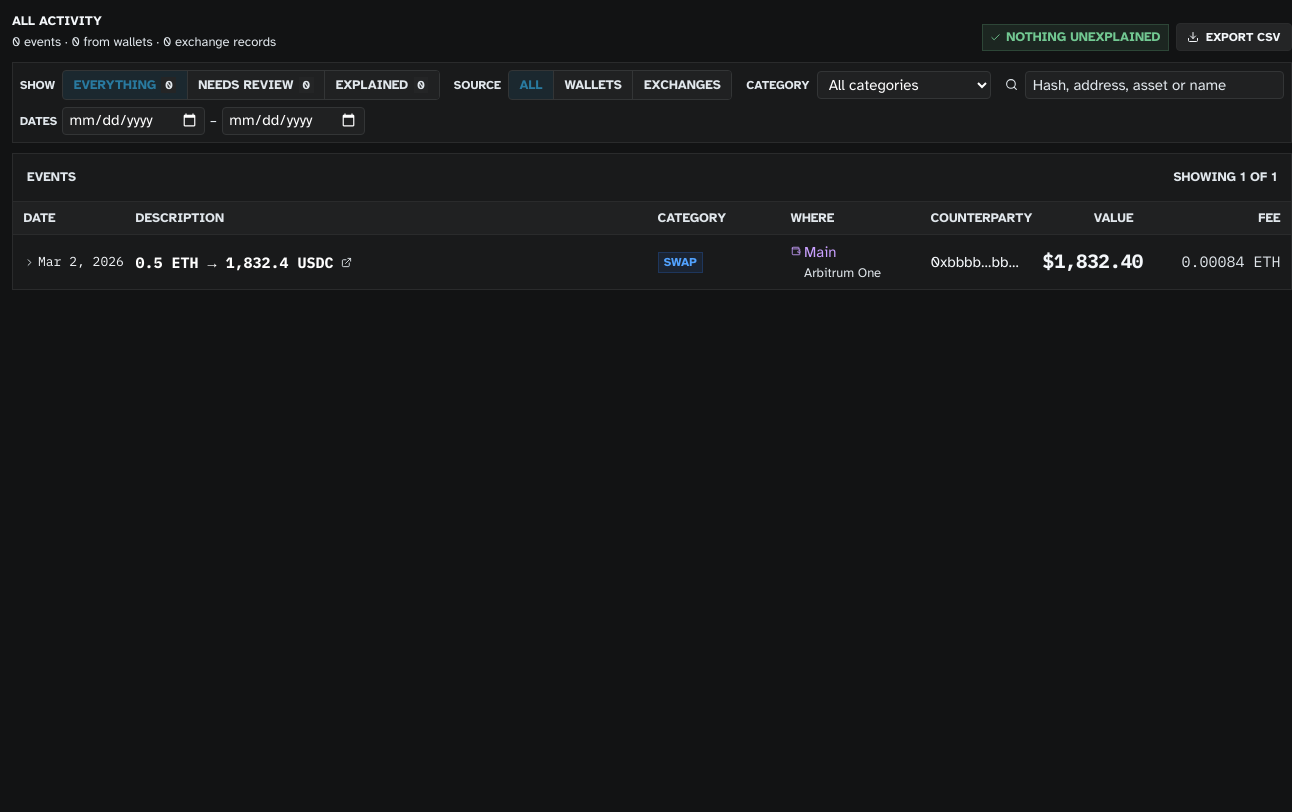
Test case: CryptoLedger › shows an evidence-backed protocol explanation with its limitation
Click the text "0.5 ETH → 1,832.4 USDC". click: (234, 262)
box: [136,252,334,273]
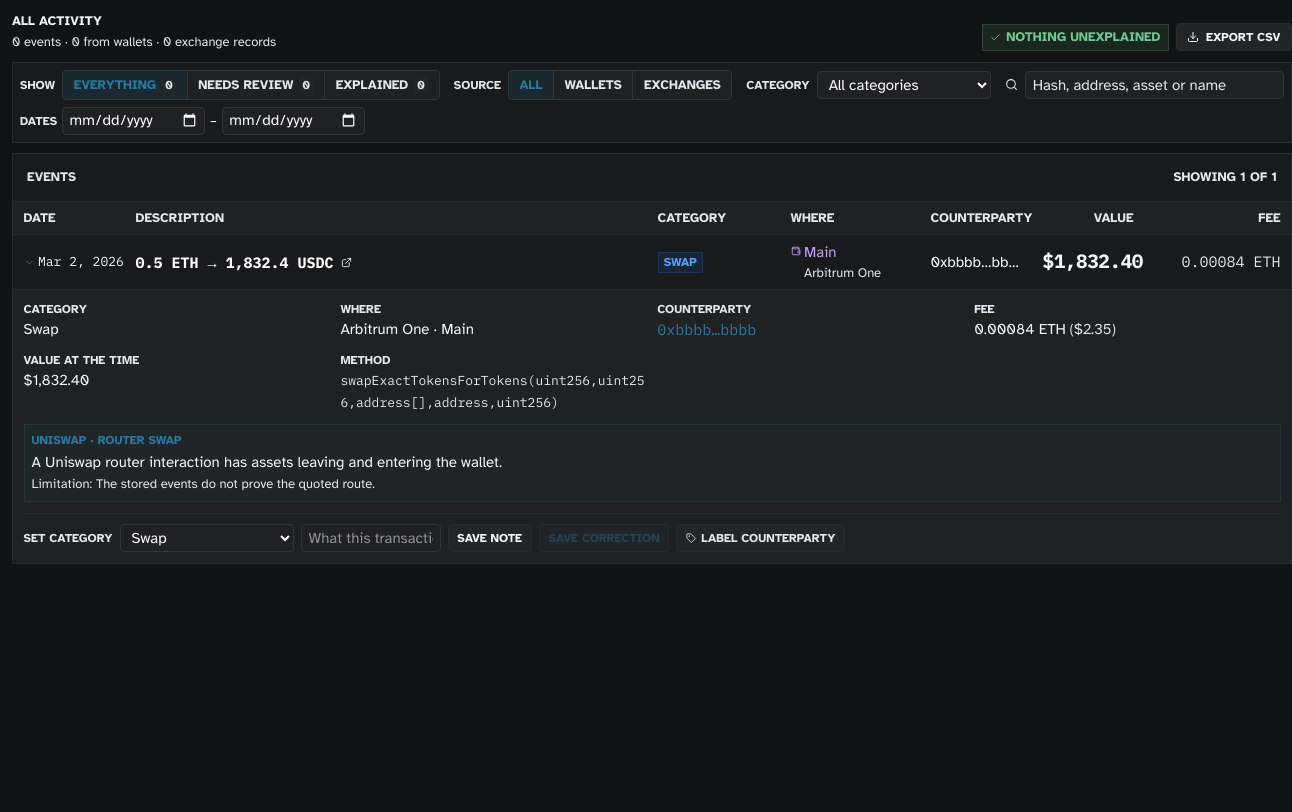
Now the text "Uniswap · router swap" is shown, box [32,433,182,447]
Now the text "Limitation: The stored events do not prove the quoted route." is shown, box [32,476,375,492]
